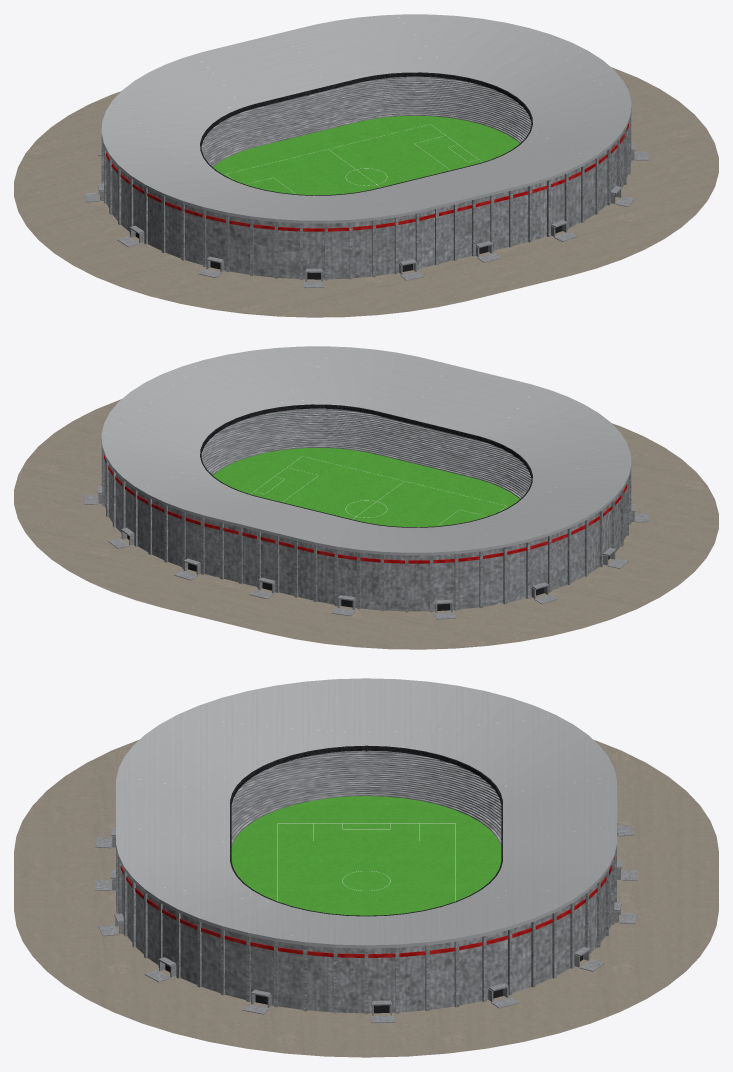
Rendered from estadio.obj.
The picture shows the model from 3 angles, top to bottom: view 1: azimuth 30°, elevation 25°; view 2: azimuth 150°, elevation 25°; view 3: azimuth 270°, elevation 25°; orthographic projection. The views are drawn at different scales.
Parts seen in each view (by area): view 1: Roof_Canopy, Exterior_Ground, Facade_Wall, Field_Turf, Nivel_Inferior, Columns_Pilasters, Roof_Edge_Ring, Facade_Band, Exterior_Entrance_Aprons, Entrance_Jambs, Nivel_Superior, Entrance_Canopies; view 2: Roof_Canopy, Exterior_Ground, Facade_Wall, Field_Turf, Nivel_Inferior, Columns_Pilasters, Roof_Edge_Ring, Facade_Band, Exterior_Entrance_Aprons, Entrance_Jambs, Nivel_Superior, Entrance_Canopies; view 3: Roof_Canopy, Exterior_Ground, Field_Turf, Facade_Wall, Nivel_Inferior, Columns_Pilasters, Roof_Edge_Ring, Exterior_Entrance_Aprons, Facade_Band, Entrance_Jambs, Entrance_Canopies, Nivel_Superior.
Boxes of the visible parts, box(x1,y1,x2,y2) form: Roof_Canopy: box(101, 14, 631, 223); Exterior_Ground: box(14, 67, 718, 317); Facade_Wall: box(106, 128, 628, 279); Field_Turf: box(213, 116, 519, 195); Nivel_Inferior: box(201, 80, 531, 166); Columns_Pilasters: box(101, 110, 631, 280); Roof_Edge_Ring: box(200, 72, 532, 195); Facade_Band: box(103, 123, 628, 231); Exterior_Entrance_Aprons: box(84, 151, 648, 287); Entrance_Jambs: box(98, 150, 634, 281); Nivel_Superior: box(244, 76, 488, 111); Entrance_Canopies: box(97, 143, 635, 272); Roof_Canopy: box(101, 346, 631, 555); Exterior_Ground: box(14, 399, 718, 649); Facade_Wall: box(104, 460, 626, 611); Field_Turf: box(213, 448, 519, 527); Nivel_Inferior: box(201, 412, 531, 498); Columns_Pilasters: box(101, 442, 631, 612); Roof_Edge_Ring: box(200, 404, 532, 527); Facade_Band: box(104, 455, 629, 563); Exterior_Entrance_Aprons: box(83, 495, 649, 619); Entrance_Jambs: box(98, 494, 634, 613); Nivel_Superior: box(244, 408, 488, 443); Entrance_Canopies: box(97, 486, 635, 604); Roof_Canopy: box(116, 678, 617, 948); Exterior_Ground: box(14, 740, 718, 1057); Field_Turf: box(231, 796, 501, 915); Facade_Wall: box(121, 865, 611, 1013); Nivel_Inferior: box(231, 755, 501, 846); Columns_Pilasters: box(116, 848, 616, 1014); Roof_Edge_Ring: box(230, 745, 502, 916); Exterior_Entrance_Aprons: box(95, 825, 637, 1023); Facade_Band: box(118, 857, 614, 957); Entrance_Jambs: box(112, 825, 620, 1015); Entrance_Canopies: box(110, 821, 622, 1005); Nivel_Superior: box(281, 750, 451, 763).
Bounding box in the file's own units: 320 × 29.22 × 270.
Materials: 7 (7 with a texture image).
